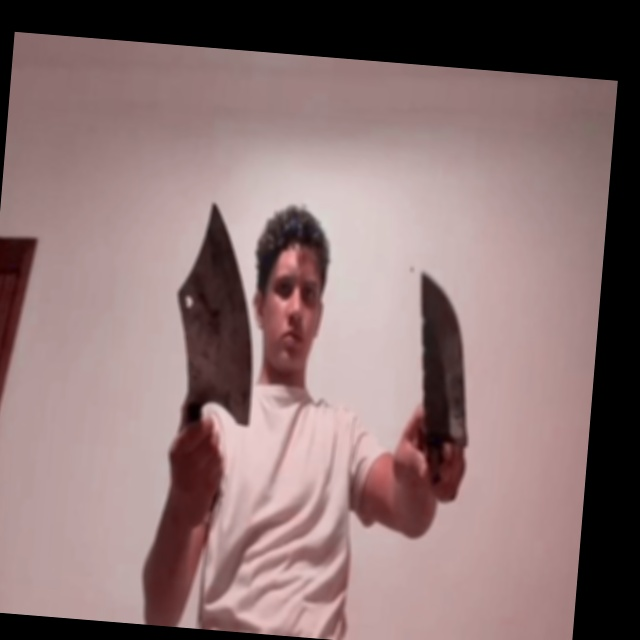Sharp-Object: (166, 195, 269, 430), (407, 269, 483, 448)
